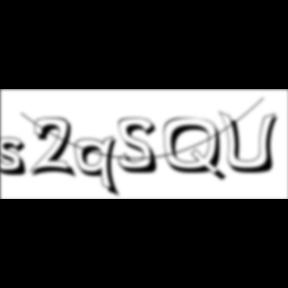2: (30, 117, 80, 181)
Q: (164, 117, 230, 184)
S: (118, 117, 164, 176)
U: (218, 110, 284, 176)
q: (76, 135, 124, 200)
s: (0, 137, 34, 179)
